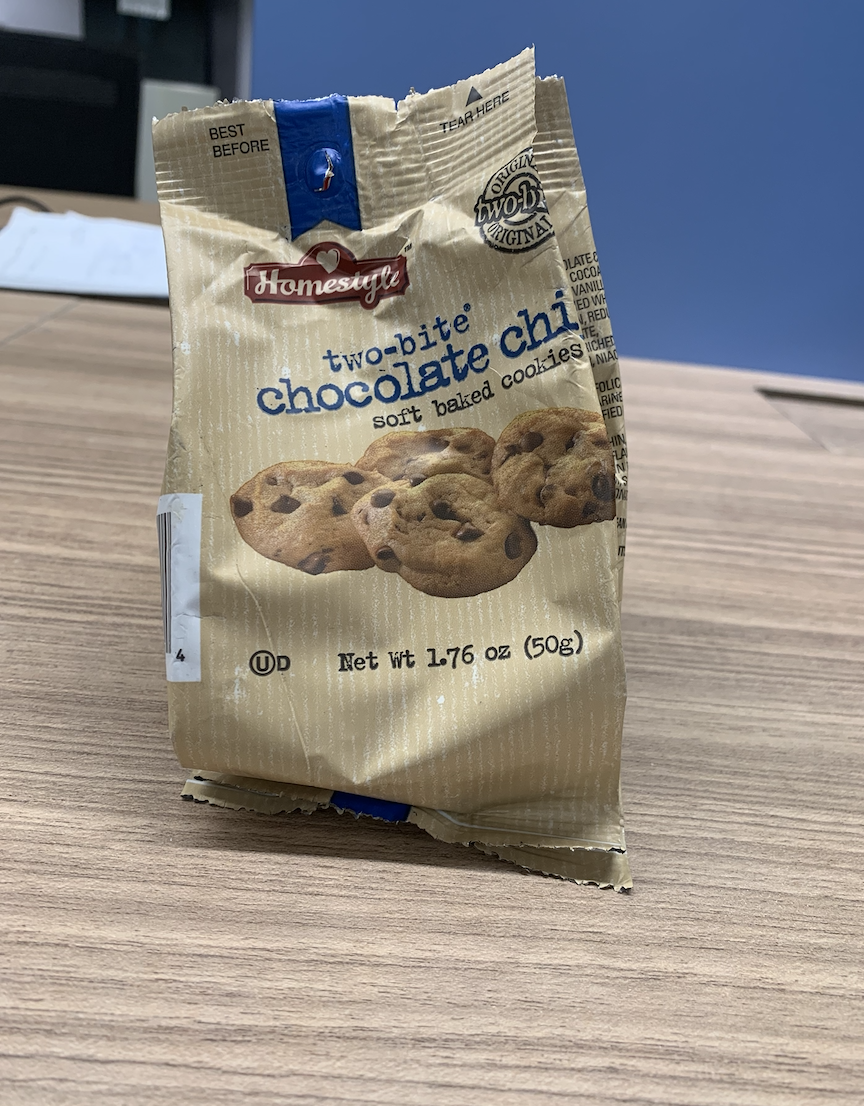cookies_1g-99g: (188, 111, 619, 825)
